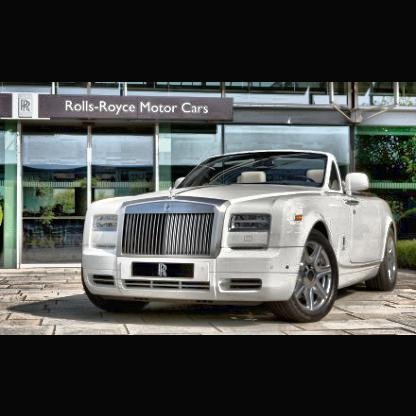Rolls-Royce Phantom Drophead Coupe Convertible 2012: (82, 154, 400, 324)
